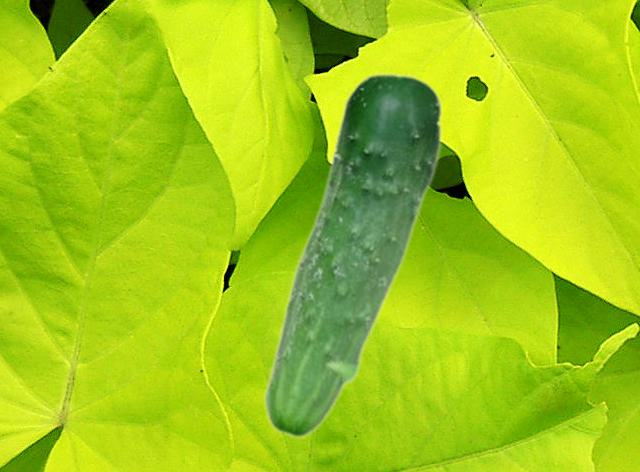cucumber: (261, 72, 443, 438)
